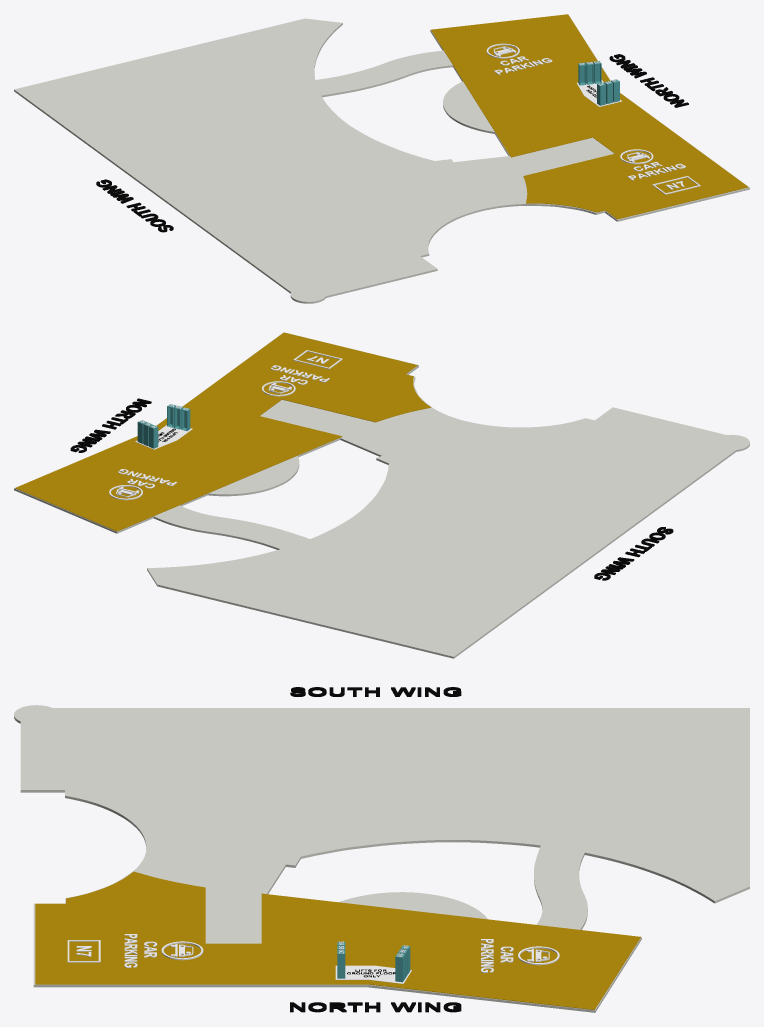
Rendered from floor-7.gltf.
3 views of the same model, one above another, from view 1: azimuth 30°, elevation 25°; view 2: azimuth 150°, elevation 25°; view 3: azimuth 270°, elevation 25° (orthographic). The views are drawn at different scales.
Parts seen in each view (by area): view 1: Shape005, Line957, Text160, Text073; view 2: Shape005, Line957, Text160, Text073; view 3: Shape005, Line957, Text160, Text073, Line958, Text182, Text181.
Boxes of the visible parts, x1,y1,x2,y2 form: Shape005: (14,14,749,303); Line957: (431,14,748,219); Text160: (609,54,688,107); Text073: (96,179,173,232); Shape005: (14,332,749,658); Line957: (15,332,431,531); Text160: (70,398,151,452); Text073: (594,527,673,580); Shape005: (14,705,749,1012); Line957: (35,871,640,1009); Text160: (290,1002,461,1012); Text073: (290,687,461,696); Line958: (335,965,411,983); Text182: (124,934,157,967); Text181: (481,939,513,972).
Bounding box in the file's own units: 115 × 4.67 × 110.
